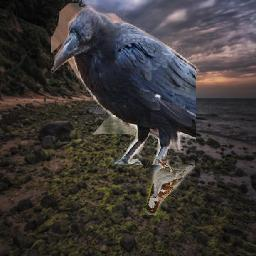Crow: (52, 3, 197, 165)
Sparrow: (143, 157, 195, 216)
